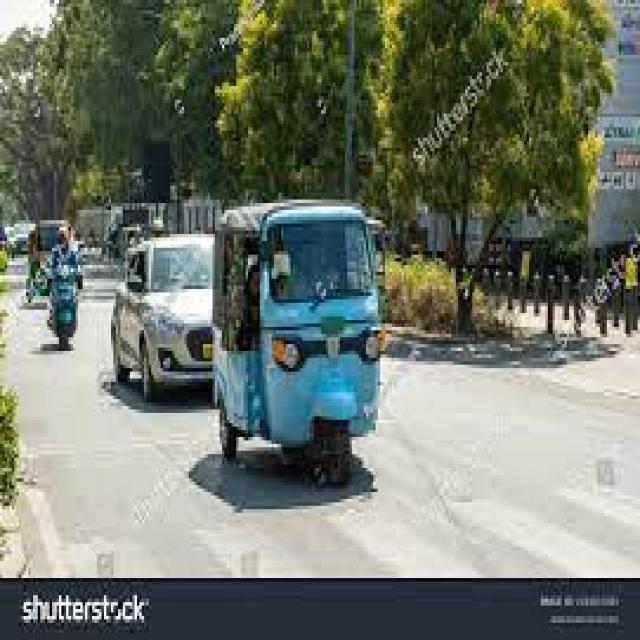car: (111, 234, 210, 399)
motorcycle: (47, 265, 73, 348)
person: (50, 224, 76, 279)
three wheeler: (213, 200, 375, 482)
